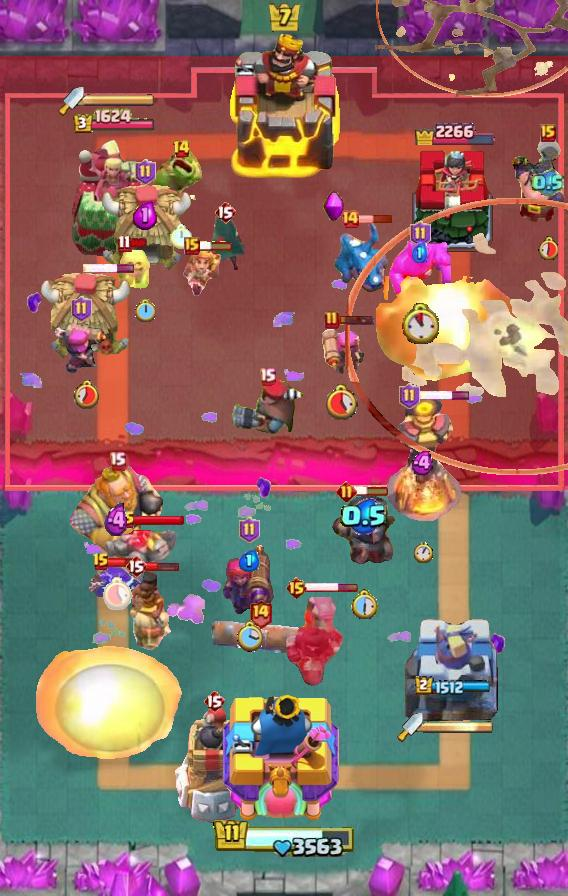bar: (405, 611, 501, 731), (70, 138, 158, 256)
bat-evolution: (116, 241, 154, 289)
bomber-evolution: (182, 242, 230, 297)
clock: (212, 818, 356, 860)
electro-dragon: (384, 395, 462, 521)
electro-spirit: (340, 497, 388, 535), (532, 169, 564, 197), (104, 503, 130, 537), (133, 201, 157, 230), (412, 451, 437, 475), (240, 550, 261, 572), (412, 241, 428, 263)
elite-barbarian: (127, 570, 173, 650)
elixir: (402, 303, 439, 344), (323, 384, 359, 421), (101, 576, 133, 610), (237, 619, 264, 652), (350, 588, 378, 619), (73, 379, 101, 409), (170, 224, 192, 249), (538, 236, 558, 260), (135, 298, 155, 322), (414, 541, 434, 562)
emote: (305, 582, 359, 594), (133, 514, 185, 526), (83, 262, 137, 273), (417, 390, 470, 401), (338, 314, 375, 326), (198, 240, 234, 252), (354, 485, 390, 497), (144, 560, 179, 571), (107, 556, 141, 567), (359, 214, 394, 224), (130, 237, 150, 249)
flying-machine: (152, 150, 210, 204)
giant-skeleton: (63, 463, 171, 567)
graveyard: (332, 220, 390, 294)
guard: (376, 0, 568, 96)
inferno-dragon: (281, 584, 343, 694), (330, 487, 398, 575)
king-tower: (226, 33, 342, 181), (223, 689, 345, 826)
king-tower-bar: (84, 93, 156, 107), (423, 720, 493, 734)
mega-minion: (223, 542, 275, 614)
minion: (209, 619, 311, 655)
monk: (510, 137, 568, 223)
phoenix-small: (229, 376, 305, 436)
prince: (98, 183, 192, 273), (40, 271, 134, 361)
queen-tower: (410, 144, 496, 255)
royal-ghost: (344, 197, 568, 475)
selected: (413, 117, 496, 145), (72, 109, 156, 136), (416, 676, 493, 696)
skeleton-king-skill: (323, 190, 345, 224)
spear-goblin: (86, 561, 142, 601)
tesla: (203, 214, 247, 274)
text: (247, 599, 272, 630), (399, 383, 421, 409), (285, 576, 308, 600), (135, 159, 156, 185), (410, 221, 431, 247), (71, 296, 92, 322), (240, 517, 261, 543), (214, 200, 236, 224), (125, 554, 147, 578), (203, 689, 225, 713), (335, 481, 357, 503), (340, 209, 360, 229), (173, 139, 192, 159), (118, 510, 136, 530), (92, 552, 110, 572), (259, 367, 277, 385), (324, 310, 340, 330), (109, 451, 126, 469), (540, 124, 556, 142), (184, 237, 200, 255), (117, 234, 131, 253)
tombstone: (52, 321, 110, 375), (320, 324, 365, 374)
tornado: (389, 236, 451, 296)
valkyrie: (30, 640, 188, 770), (372, 276, 528, 398)
valkyrie-evolution: (103, 525, 179, 593)
zappy: (171, 705, 257, 825)
